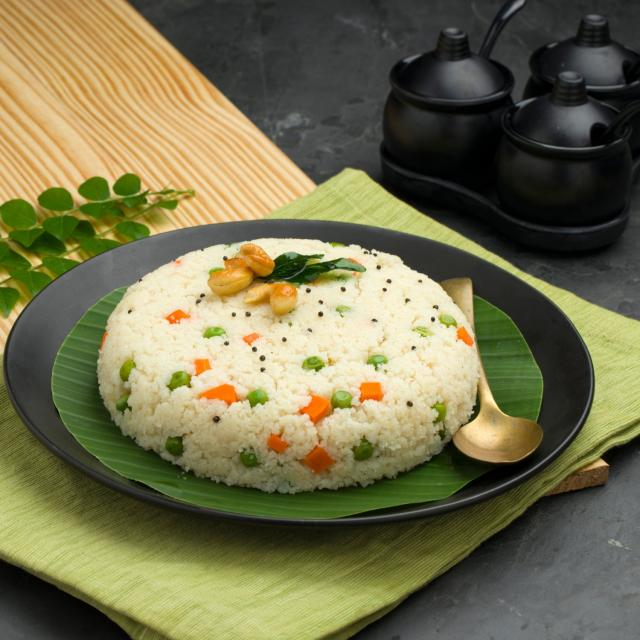UPMA: (96, 236, 482, 489)
